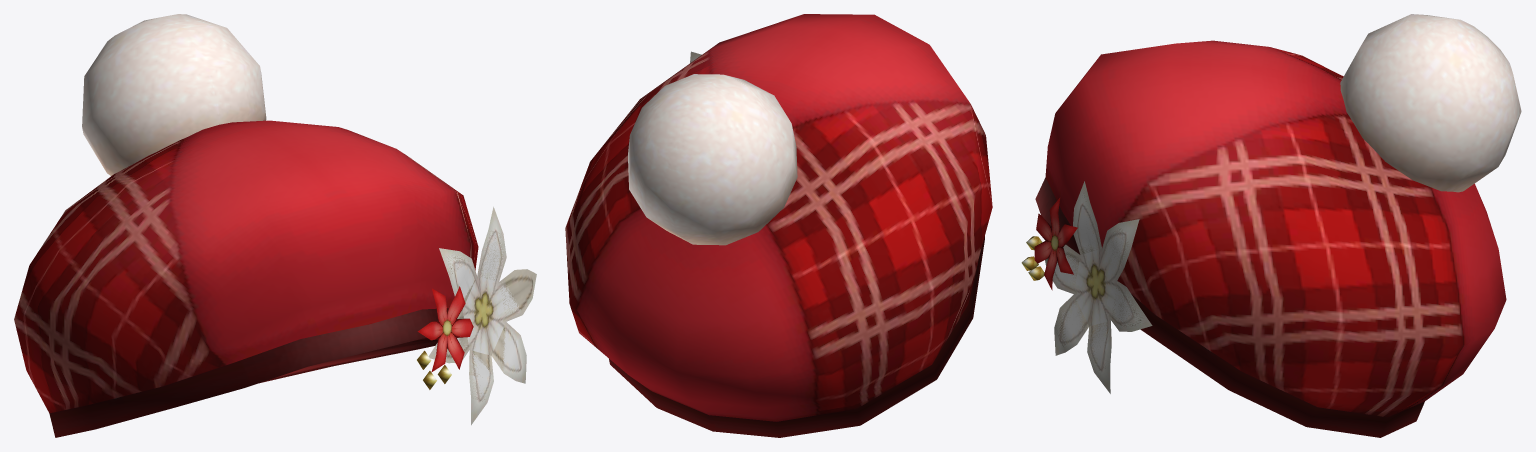
Rendered from helm0101.fbx.
3 renders of one model, left to right at view 1: azimuth 30°, elevation 25°; view 2: azimuth 150°, elevation 25°; view 3: azimuth 270°, elevation 25°, orthographic. The views are drawn at different scales.
Parts seen in each view (by area): view 1: helm0101_m; view 2: helm0101_m; view 3: helm0101_m.
Part boxes in pixels (x1,y1,x2,y2): helm0101_m: (14,14,536,437); helm0101_m: (565,14,992,437); helm0101_m: (1021,14,1521,437).
Size of the model in its own units: 0.4062 by 0.349 by 0.4266.
